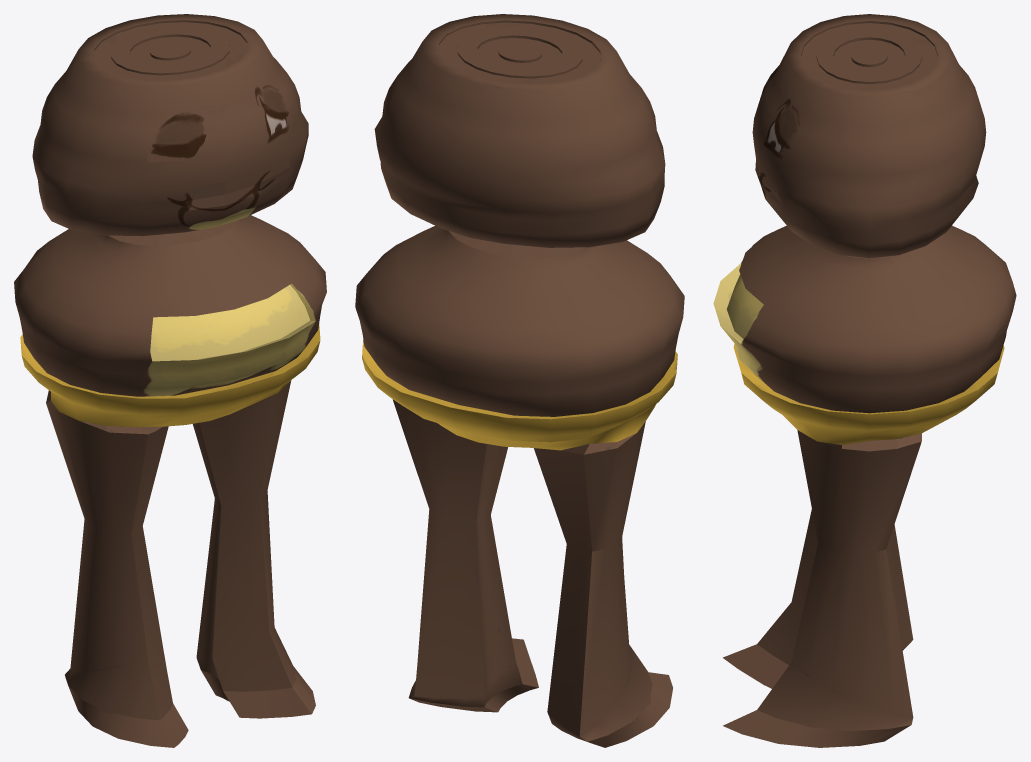
Rendered from Stephens_August_Asssess8_Rolo_Textured.fbx.
3 renders of one model, left to right at view 1: azimuth 30°, elevation 25°; view 2: azimuth 150°, elevation 25°; view 3: azimuth 270°, elevation 25°, orthographic. The views are drawn at different scales.
Visible parts, largest first — view 1: pSphere3; view 2: pSphere3; view 3: pSphere3.
Boxes of the visible parts, x1=… form: pSphere3: x1=14, y1=14, x2=326, y2=747; pSphere3: x1=355, y1=14, x2=684, y2=747; pSphere3: x1=713, y1=14, x2=1016, y2=747.
Size of the model in its own units: 3.27 by 7.26 by 3.06.
1 material, 1 textured.
